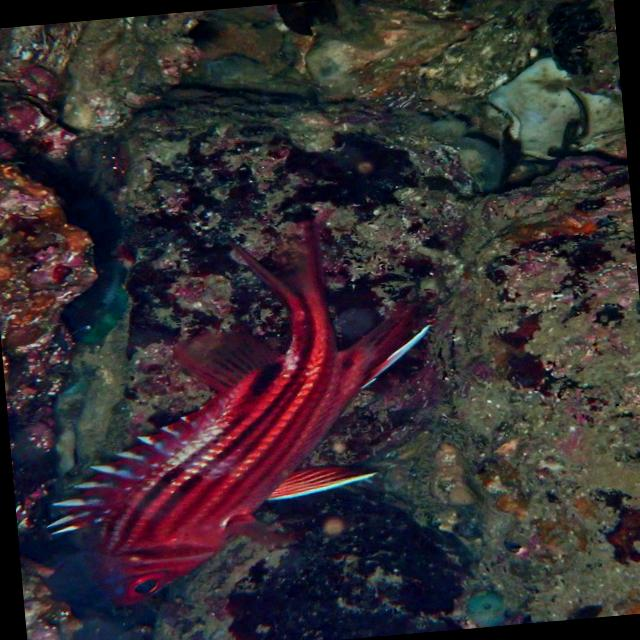Asker Baligi: (13, 194, 457, 616)
